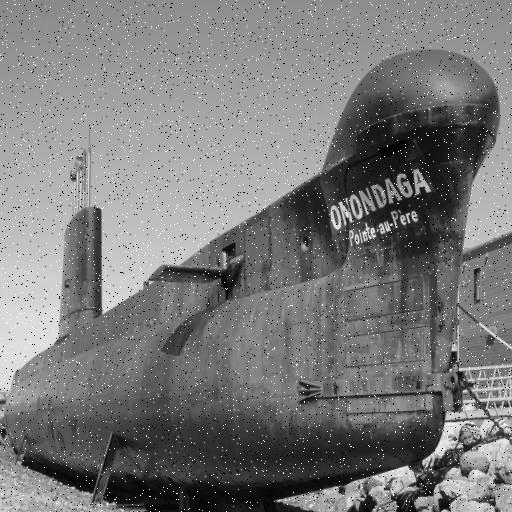submarine: (7, 49, 501, 498)
